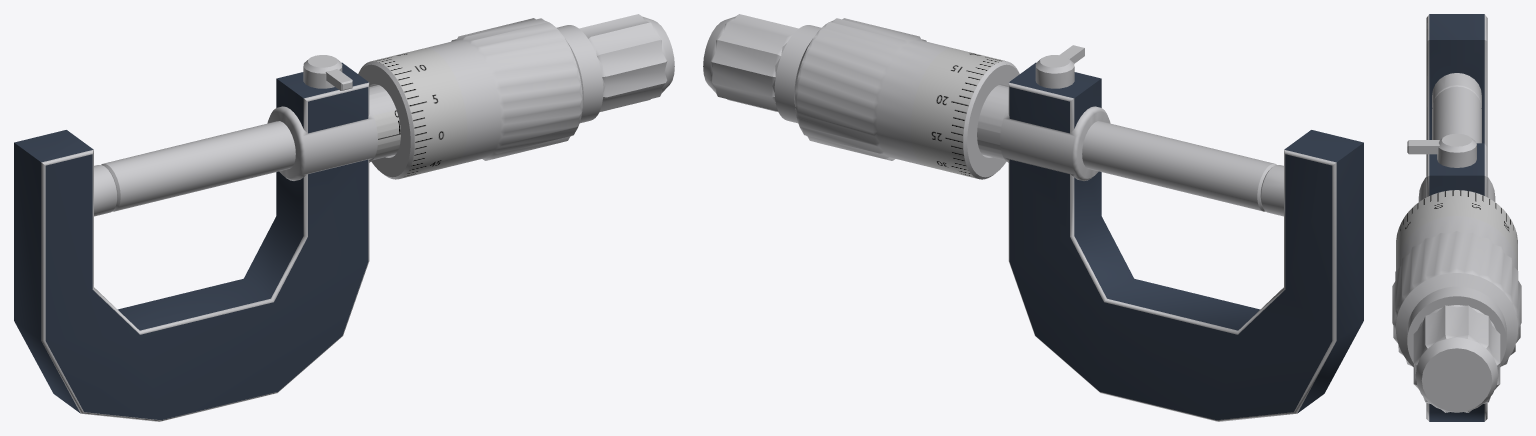
Rendered from ScrewGauge_Azm.fbx.
3 views of the same model, side by side, from view 1: azimuth 30°, elevation 25°; view 2: azimuth 150°, elevation 25°; view 3: azimuth 270°, elevation 25° (orthographic).
Parts seen in each view (by area): view 1: Frame_Azm, Thimble_Azm, Spindle_Azm, Ratchet_Azm, Lock_Azm; view 2: Frame_Azm, Thimble_Azm, Spindle_Azm, Ratchet_Azm, Lock_Azm; view 3: Thimble_Azm, Frame_Azm, Ratchet_Azm, Spindle_Azm, Lock_Azm.
Part boxes in pixels (box(x1,y1,x2,y2)): Frame_Azm: box(14, 62, 400, 421); Thimble_Azm: box(358, 18, 603, 179); Spindle_Azm: box(101, 121, 295, 211); Ratchet_Azm: box(579, 14, 674, 111); Lock_Azm: box(303, 55, 352, 90); Frame_Azm: box(977, 62, 1363, 421); Thimble_Azm: box(774, 18, 1019, 179); Spindle_Azm: box(1082, 121, 1276, 211); Ratchet_Azm: box(703, 14, 798, 112); Lock_Azm: box(1035, 45, 1084, 88); Thimble_Azm: box(1392, 190, 1521, 366); Frame_Azm: box(1418, 14, 1495, 421); Ratchet_Azm: box(1413, 305, 1500, 412); Spindle_Azm: box(1432, 86, 1481, 143); Lock_Azm: box(1407, 133, 1476, 167).
Size of the model in its own units: 0.096 by 0.0448 by 0.0169.
Materials: 3 (1 with a texture image).
